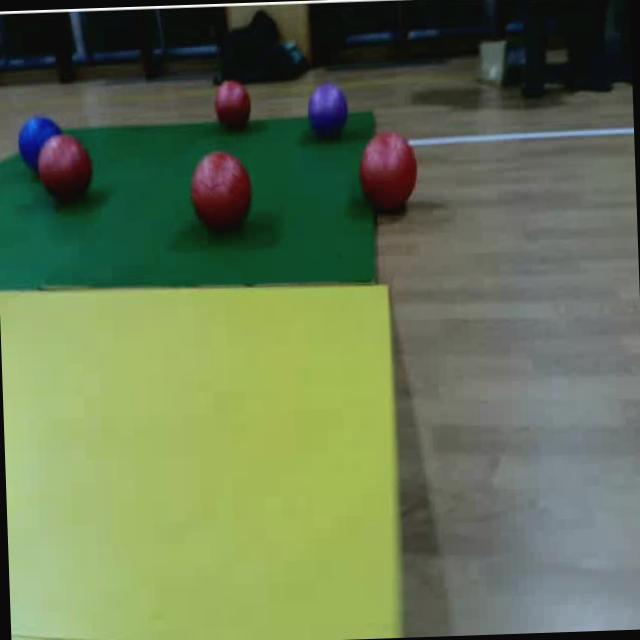blue_ball: (16, 112, 41, 171)
purple_ball: (304, 78, 351, 144)
red_ball: (187, 148, 258, 238), (358, 130, 420, 216), (44, 133, 94, 210), (210, 76, 254, 134)
